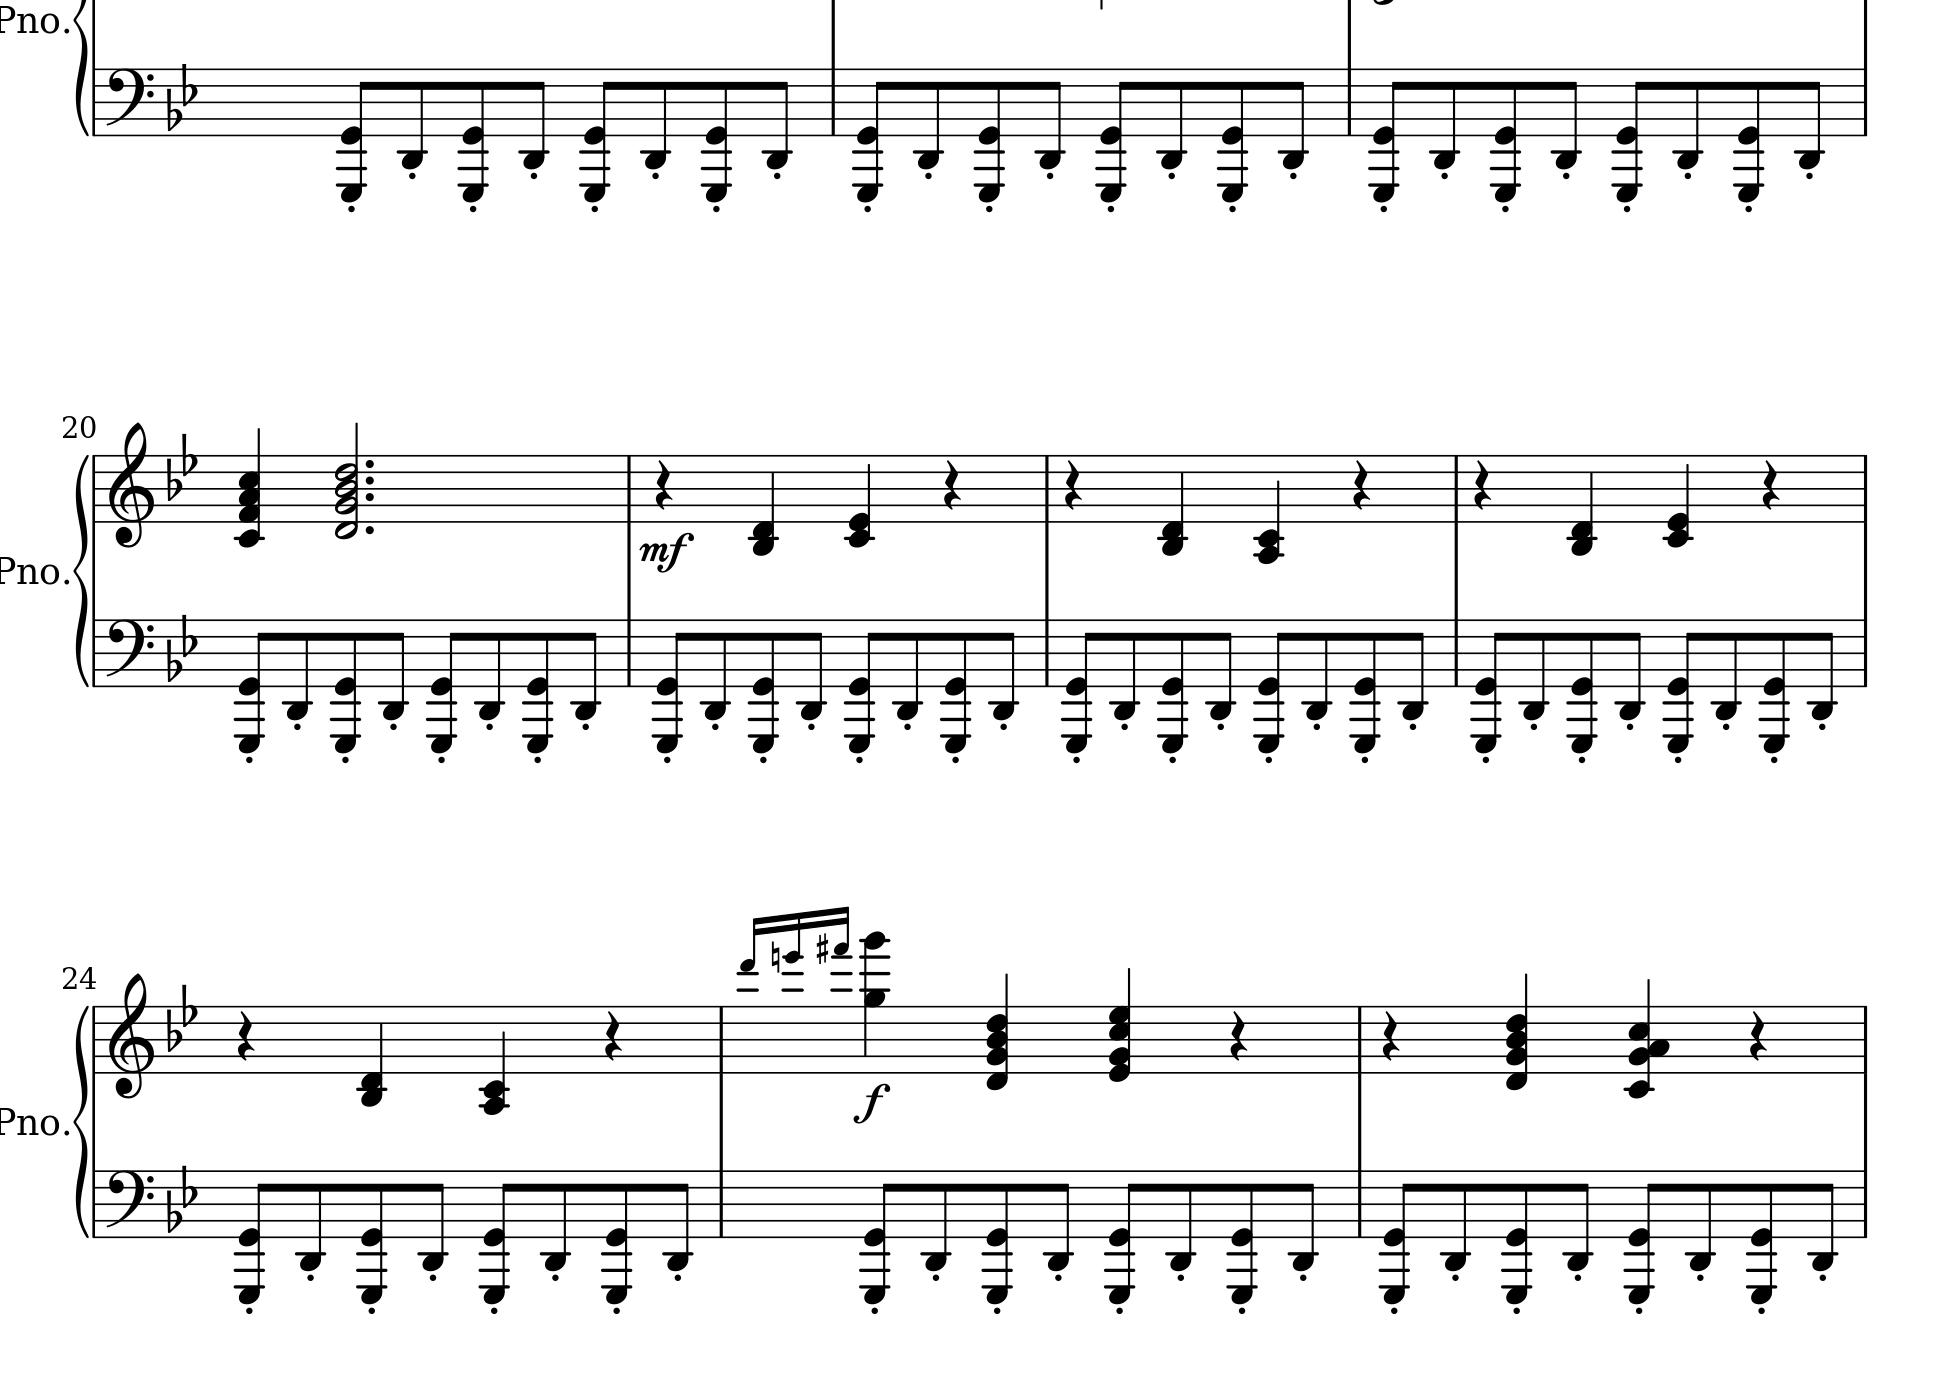0: (79, 409, 97, 439)
2: (60, 412, 79, 439), (60, 964, 78, 991)
2_4th: (331, 418, 361, 543)
4: (78, 963, 97, 991)
4_-2_0: (1659, 453, 1695, 549), (843, 454, 877, 550)
4_-3_-1: (1155, 451, 1191, 556), (747, 454, 781, 556), (1566, 453, 1599, 556), (357, 1003, 387, 1108)
4_-4_-2: (1254, 453, 1287, 565), (478, 1005, 511, 1116)
4_4th: (1626, 976, 1671, 1099), (235, 427, 265, 553), (1107, 966, 1134, 1084), (985, 970, 1011, 1090), (1506, 970, 1530, 1090)
4_9_16: (858, 930, 891, 1074)
8_-3: (913, 66, 945, 171), (640, 67, 672, 171), (295, 1168, 327, 1272), (1552, 67, 1584, 169), (990, 616, 1020, 723), (1279, 66, 1309, 171), (1674, 66, 1704, 171), (283, 616, 313, 721), (379, 616, 409, 721), (475, 616, 505, 721), (571, 616, 601, 721), (700, 616, 730, 721), (922, 1168, 952, 1273), (1044, 1168, 1074, 1273), (1167, 1168, 1197, 1273), (397, 67, 427, 171), (520, 67, 550, 171), (763, 67, 793, 171), (1036, 67, 1066, 171), (1431, 66, 1461, 169), (418, 1168, 448, 1272), (541, 1168, 571, 1272), (1290, 1168, 1320, 1272), (1443, 1168, 1473, 1272), (1564, 1168, 1594, 1272), (1686, 1168, 1716, 1272), (1158, 67, 1188, 169), (1111, 616, 1140, 723), (798, 616, 826, 721), (894, 616, 922, 721), (1207, 616, 1236, 721), (1303, 616, 1332, 721), (1399, 616, 1428, 721), (1521, 616, 1549, 721), (1617, 616, 1645, 721), (1713, 616, 1741, 721), (664, 1168, 693, 1272), (1797, 67, 1824, 172), (1809, 616, 1836, 721), (1809, 1168, 1836, 1272)
8_-7_0: (336, 66, 376, 205), (453, 64, 493, 204), (577, 64, 618, 204), (852, 66, 892, 205), (232, 616, 273, 756), (694, 64, 733, 204), (970, 64, 1008, 205), (1215, 61, 1251, 202), (1098, 64, 1134, 204), (1368, 63, 1404, 202), (1485, 66, 1521, 205), (1612, 64, 1648, 204), (1732, 64, 1768, 204), (325, 616, 361, 754), (427, 616, 463, 754), (517, 615, 553, 753), (652, 616, 688, 754), (745, 615, 781, 753), (844, 616, 880, 754), (936, 615, 972, 753), (1062, 615, 1098, 753), (1155, 615, 1191, 753), (1255, 616, 1291, 754), (1347, 615, 1383, 753), (1473, 615, 1509, 753), (1563, 616, 1599, 754), (1665, 616, 1701, 754), (1758, 613, 1794, 751), (1743, 1168, 1779, 1306), (1623, 1167, 1659, 1305), (1501, 1167, 1537, 1305), (1381, 1167, 1417, 1305), (1227, 1165, 1263, 1303), (1107, 1168, 1143, 1306), (981, 1165, 1017, 1303), (859, 1165, 895, 1303), (598, 1167, 634, 1305), (478, 1167, 514, 1305), (354, 1165, 390, 1303), (232, 1167, 268, 1305)
B_F: (165, 430, 199, 501), (165, 981, 199, 1051), (165, 612, 198, 682), (166, 61, 198, 130), (166, 1164, 196, 1233)
Brace: (70, 451, 91, 685), (72, 1003, 91, 1237)
Fclef: (103, 1167, 156, 1239), (103, 616, 154, 688), (103, 67, 156, 136)
Gclef: (106, 972, 157, 1099), (106, 420, 154, 549)
Natural: (769, 937, 781, 973)
Pno: (1, 3, 61, 40), (1, 1102, 61, 1140), (1, 553, 60, 589)
Rests4: (940, 457, 964, 513), (1062, 459, 1086, 514), (1350, 457, 1374, 513), (601, 1008, 625, 1063), (1470, 459, 1494, 513), (1227, 1009, 1251, 1063), (1378, 1009, 1402, 1063), (234, 1009, 256, 1062), (652, 459, 673, 513), (1761, 457, 1782, 511), (1749, 1009, 1770, 1062)
Sharp: (814, 931, 829, 966)
Single_barline: (1854, 1005, 1875, 1072), (1341, 67, 1359, 135), (1038, 454, 1056, 522), (1351, 1005, 1369, 1072), (1857, 453, 1873, 523), (1449, 454, 1465, 523), (712, 1168, 729, 1237), (1351, 1168, 1368, 1237), (825, 67, 841, 135), (621, 454, 637, 522), (621, 619, 637, 685), (712, 1006, 729, 1072), (1857, 618, 1872, 688), (88, 1003, 103, 1074), (1039, 618, 1054, 687), (1449, 618, 1464, 687), (1857, 1168, 1872, 1237), (1857, 69, 1872, 136), (88, 1168, 103, 1236), (88, 619, 103, 684), (88, 454, 102, 522), (88, 69, 102, 133)
dot: (361, 457, 376, 471), (361, 472, 376, 486), (363, 522, 376, 537), (363, 489, 376, 502)
f: (850, 1081, 891, 1123)
mf: (636, 529, 694, 571)
